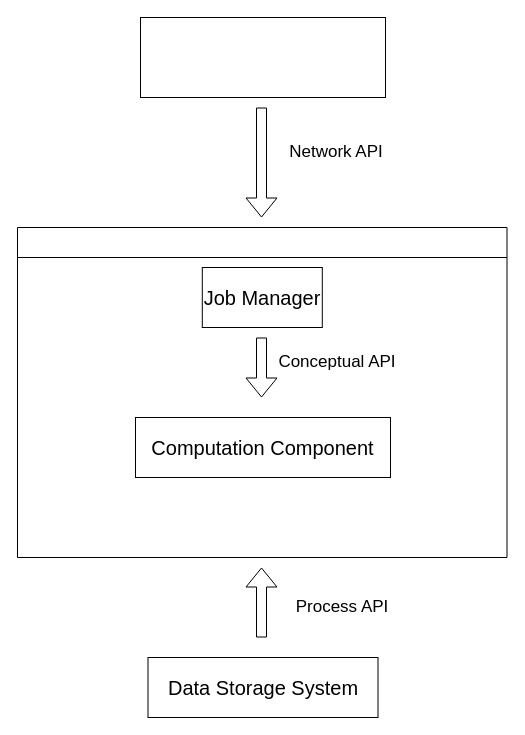
Image size: 525x735. Some labels were removed from this diagram. Here are the shapes that lost their labels. From the top down, the box of each, then its label:
(140, 16, 386, 98): User
(16, 226, 507, 558): Compute Engine
